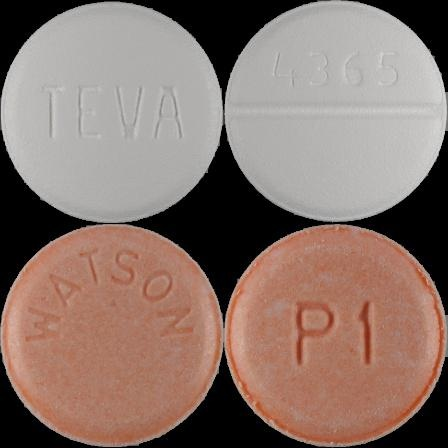54868-4844: (0, 0, 224, 224)
